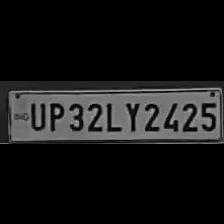2: (84, 97, 104, 131), (140, 98, 160, 132), (179, 98, 197, 132)
3: (64, 98, 84, 132)
4: (159, 97, 179, 131)
5: (196, 97, 218, 131)
L: (102, 98, 120, 132)
P: (44, 98, 64, 132)
U: (26, 98, 44, 130)
Y: (122, 97, 140, 131)
